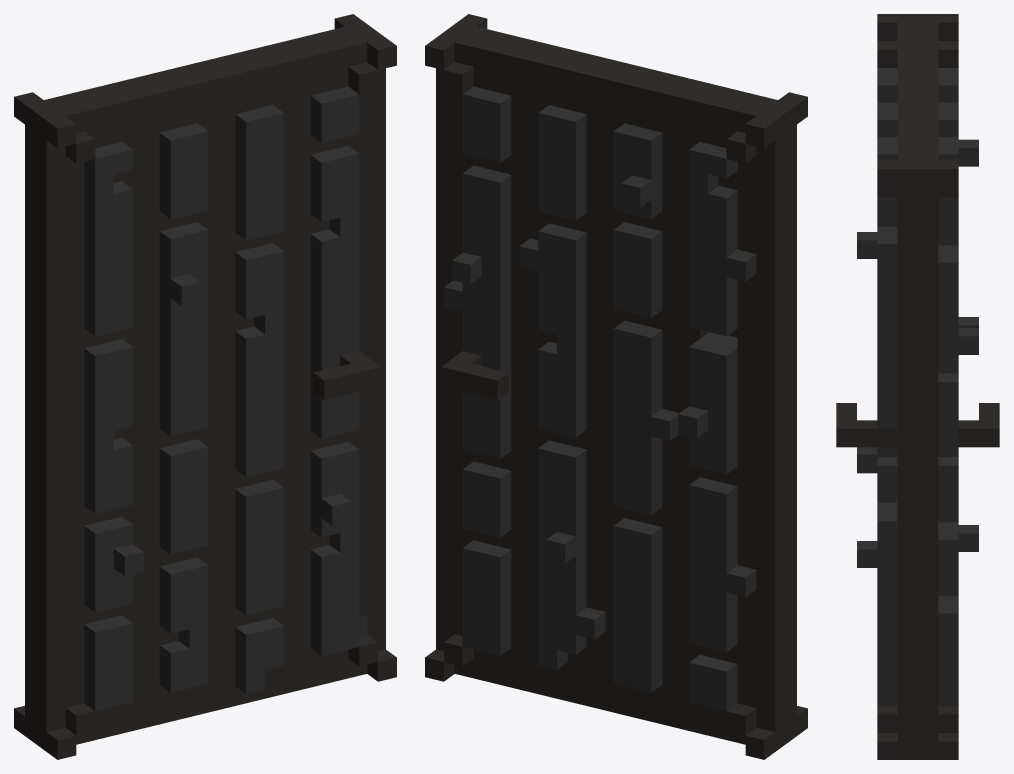
The model's file is DoorStone.obj.
The picture shows the model from 3 angles, left to right: view 1: azimuth 30°, elevation 25°; view 2: azimuth 150°, elevation 25°; view 3: azimuth 270°, elevation 25°; orthographic projection. The views are drawn at different scales.
Bounding box in the file's own units: 1.8 × 3.2 × 0.8.
1 material, 1 textured.
